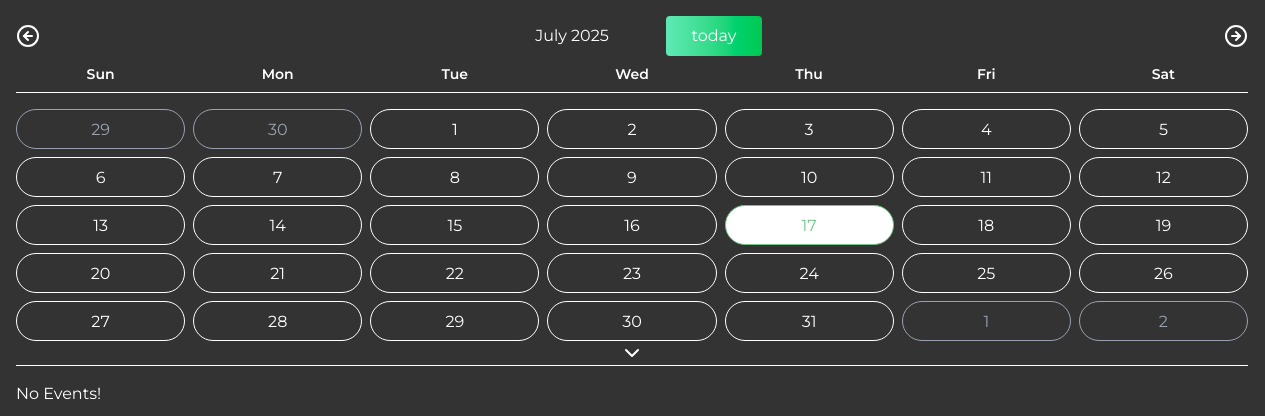
Test: Calendar Page › Date Navigation › clicking on previous month day navigates to previous month and selects that day
Expected: the text "July 2025" is shown, [535,26,609,45]
Click the 1st button "30" at (278,129), box [193,109,362,149]
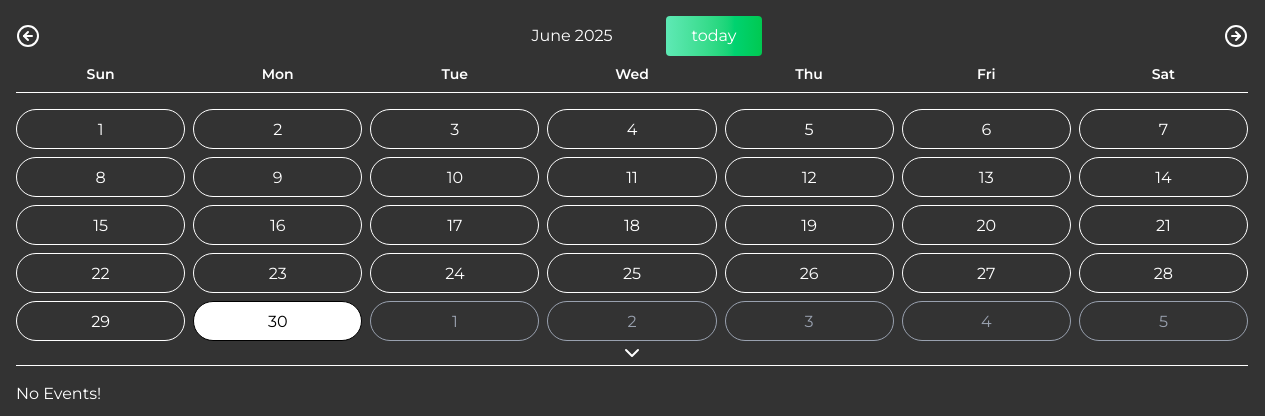
Now the text "June 2025" is shown, box [531,26,613,45]
